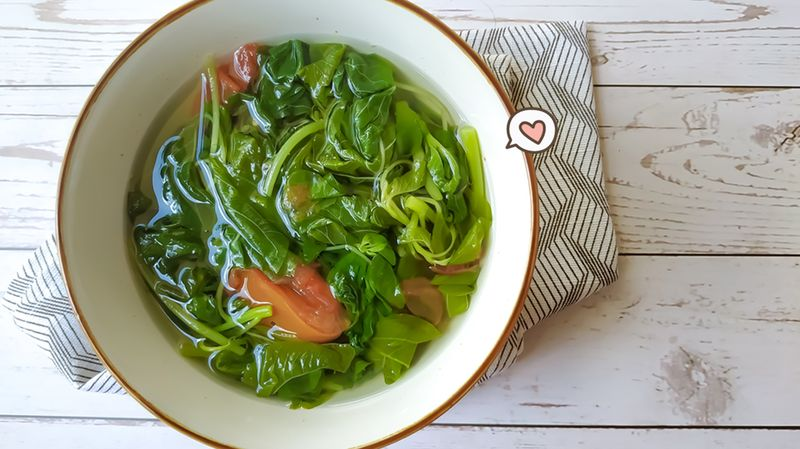Sayur Bayam: (80, 53, 523, 420)
